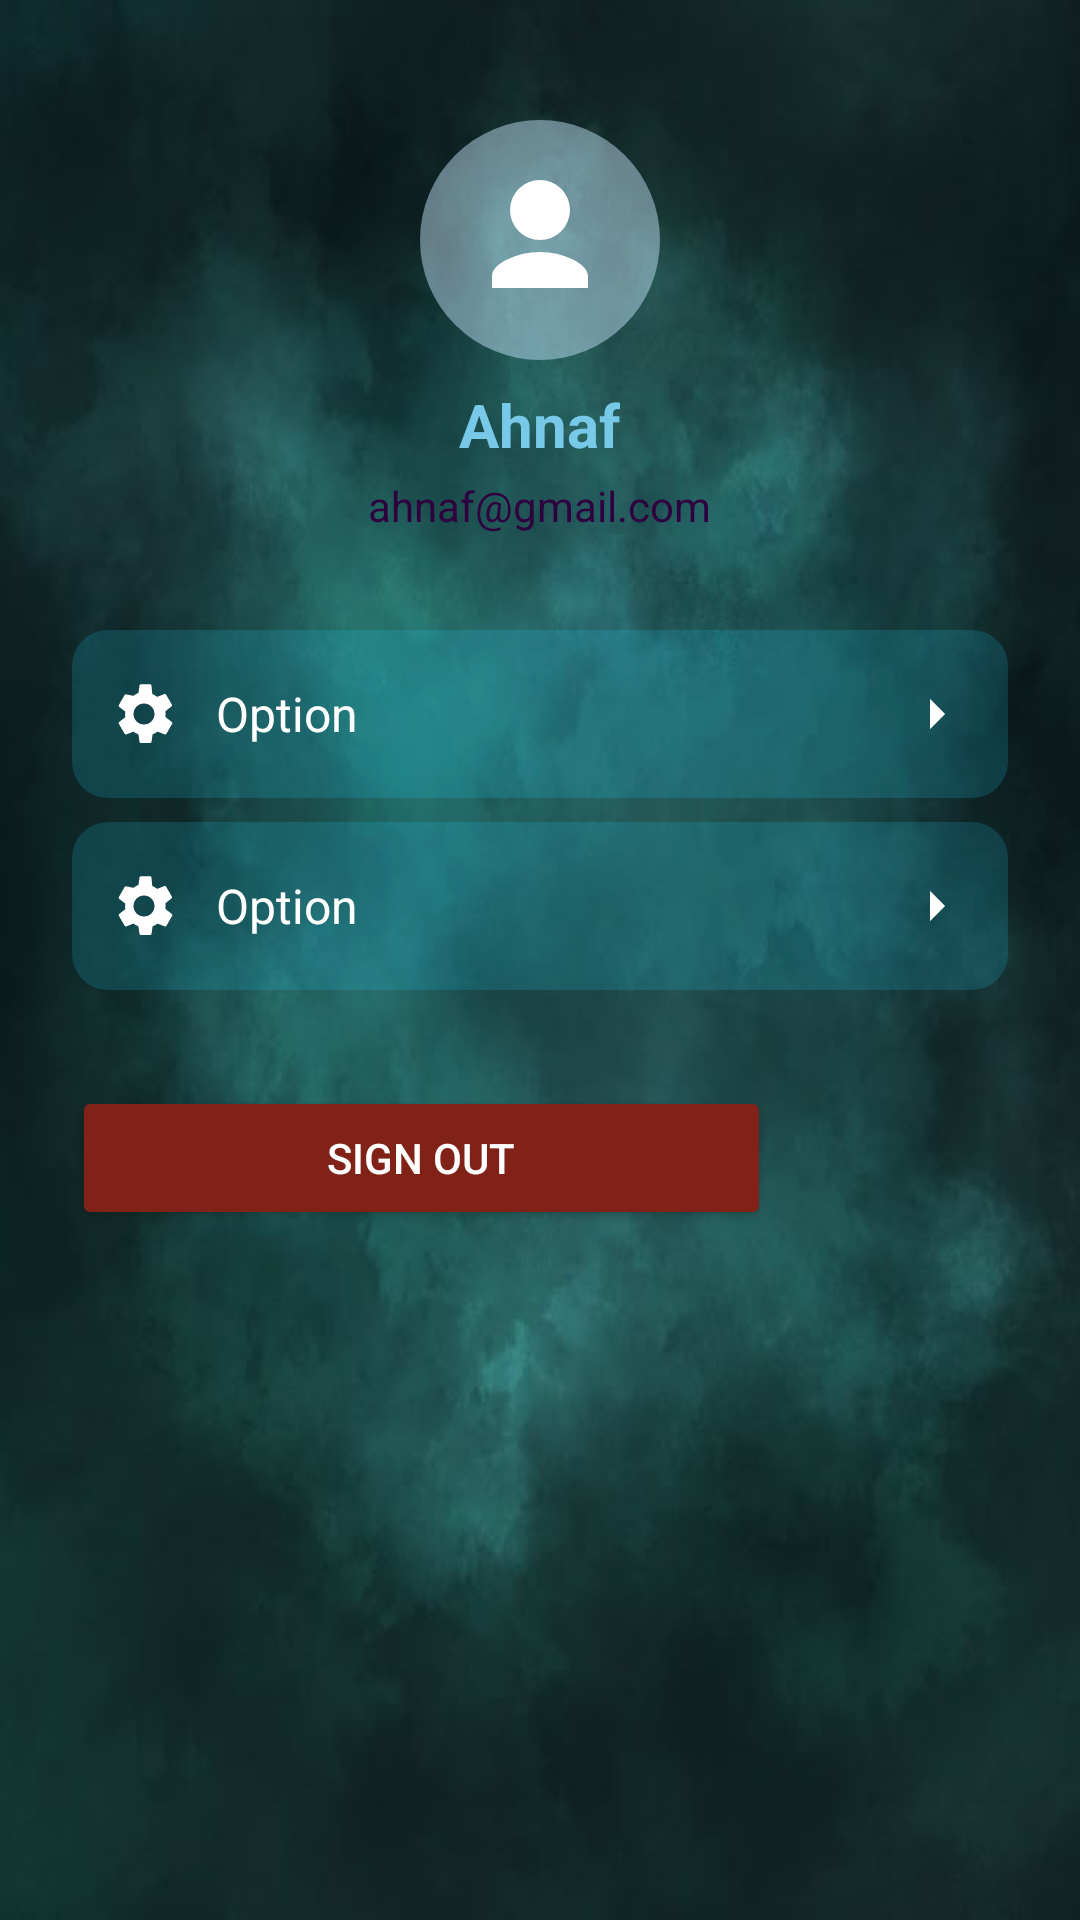

Named icons in this screenshot (1080 x 1920) and their centers, [x,y]:
arrow right: [937,714], [937,906]
settings: [145,713], [145,905]
